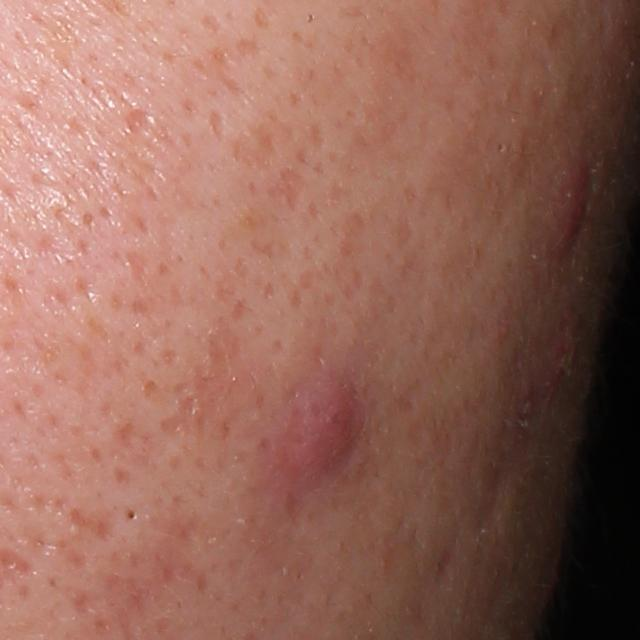atrophic_scar: (72, 508, 212, 633), (463, 452, 503, 555), (267, 169, 306, 213), (121, 105, 158, 141)
comedo: (122, 504, 142, 524)
papule: (279, 375, 371, 470), (543, 165, 592, 259)
